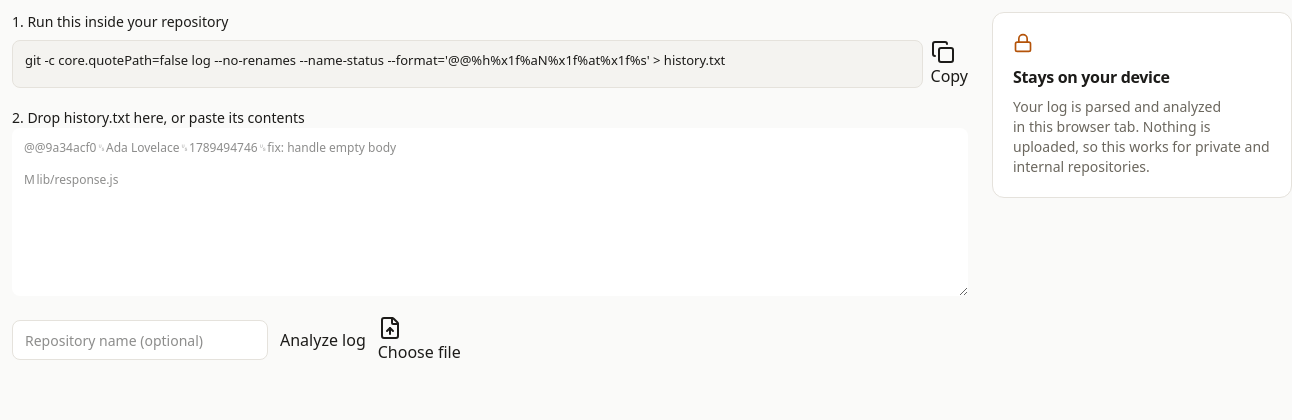
Scenario: PasteAnalyzer › explains what's wrong with unusable input
Replace the text in the text box named "Git log output" with "just some text" at [490, 212], box [12,128,968,296]
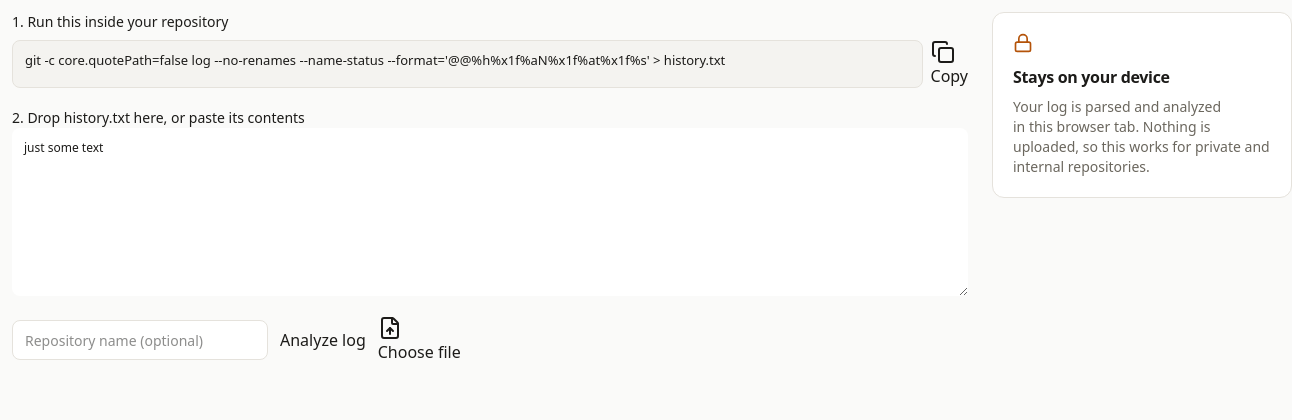
Click the button "Analyze log" at [323, 340], box [280,328,366,352]
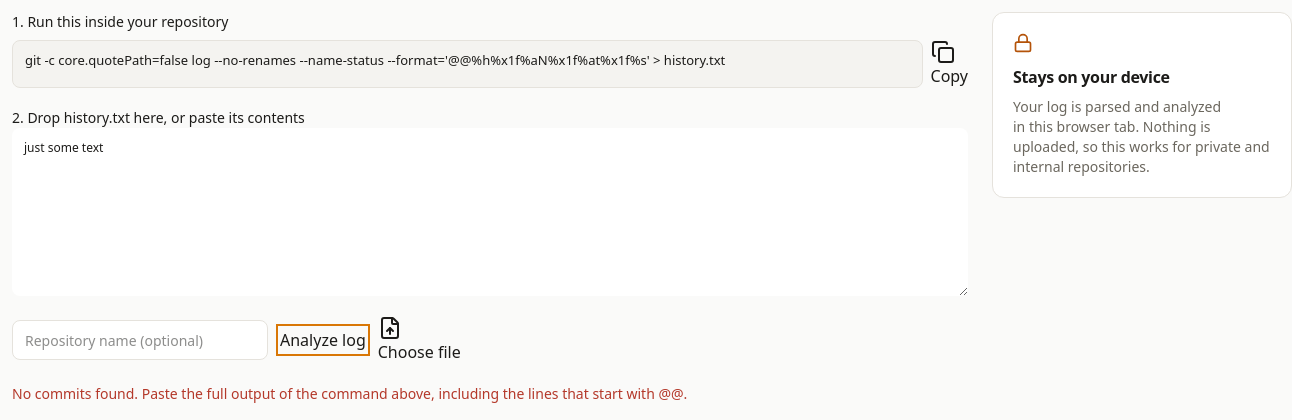
Expected: the message shows "No commits found", [12,384,687,403]
